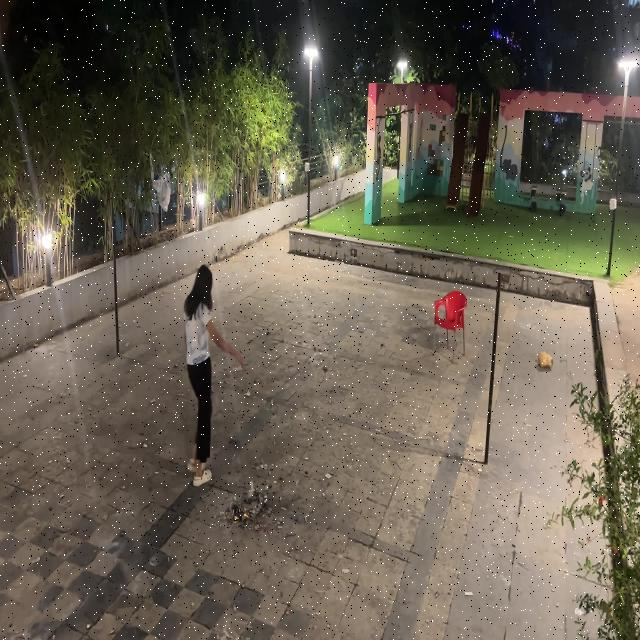garbage_dumping: (225, 469, 278, 534)
